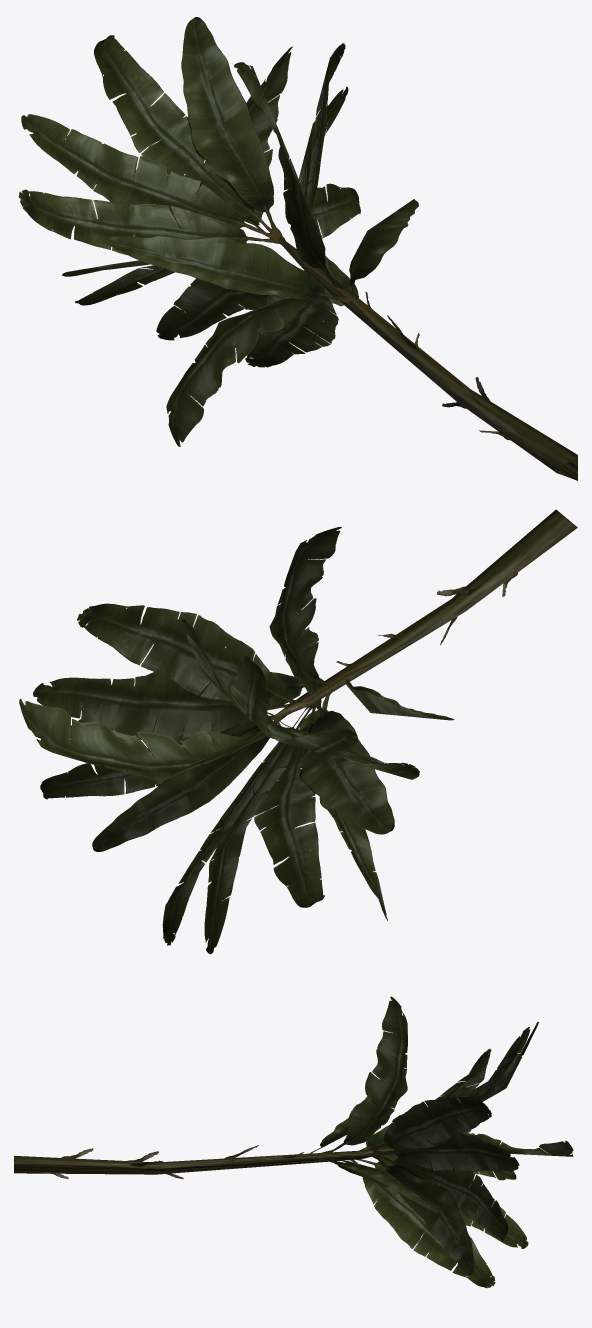
Rendered from MEP_Palm_02.fbx.
3 renders of one model, top to bottom at view 1: azimuth 30°, elevation 25°; view 2: azimuth 150°, elevation 25°; view 3: azimuth 270°, elevation 25°, orthographic. The views are drawn at different scales.
Parts seen in each view (by area): view 1: MEP_Palm_02; view 2: MEP_Palm_02; view 3: MEP_Palm_02.
Boxes of the visible parts, x1,y1,x2,y2 form: MEP_Palm_02: (18,17,577,480); MEP_Palm_02: (19,509,577,954); MEP_Palm_02: (14,996,573,1288).
Bounding box in the file's own units: 3.71 × 3.48 × 6.55.
